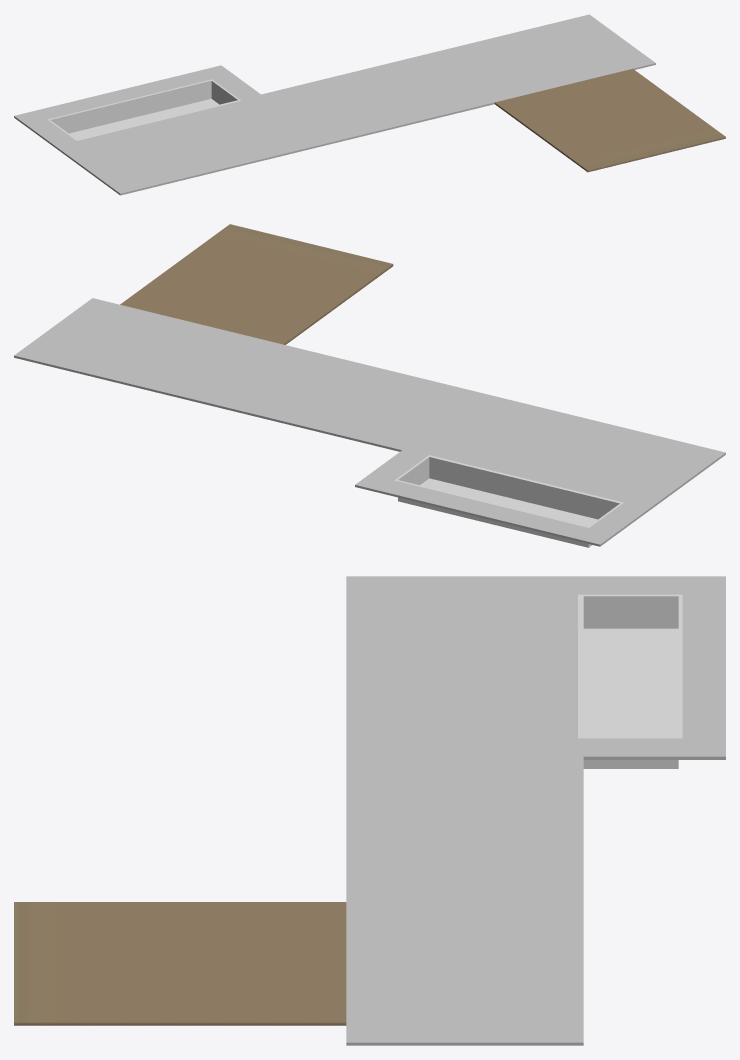
Rendered from MainGrid.fbx.
3 renders of one model, top to bottom at view 1: azimuth 30°, elevation 25°; view 2: azimuth 150°, elevation 25°; view 3: azimuth 270°, elevation 25°, orthographic. The views are drawn at different scales.
Parts seen in each view (by area): view 1: Grid; view 2: Grid; view 3: Grid.
Part boxes in pixels (x1,y1,x2,y2): Grid: [14, 14, 725, 195]; Grid: [14, 224, 725, 547]; Grid: [14, 576, 725, 1045].
Bounding box in the file's own units: 4650 × 150 × 3000.
